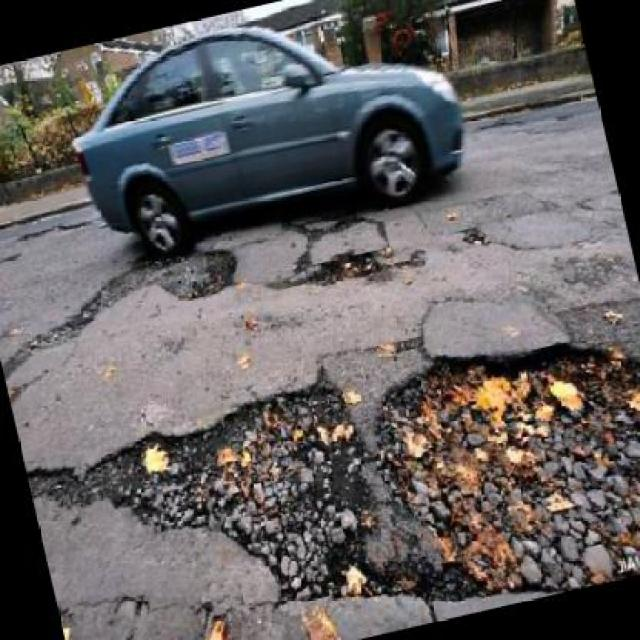pothole1: (71, 287, 638, 638), (155, 236, 247, 307), (297, 240, 388, 292)
